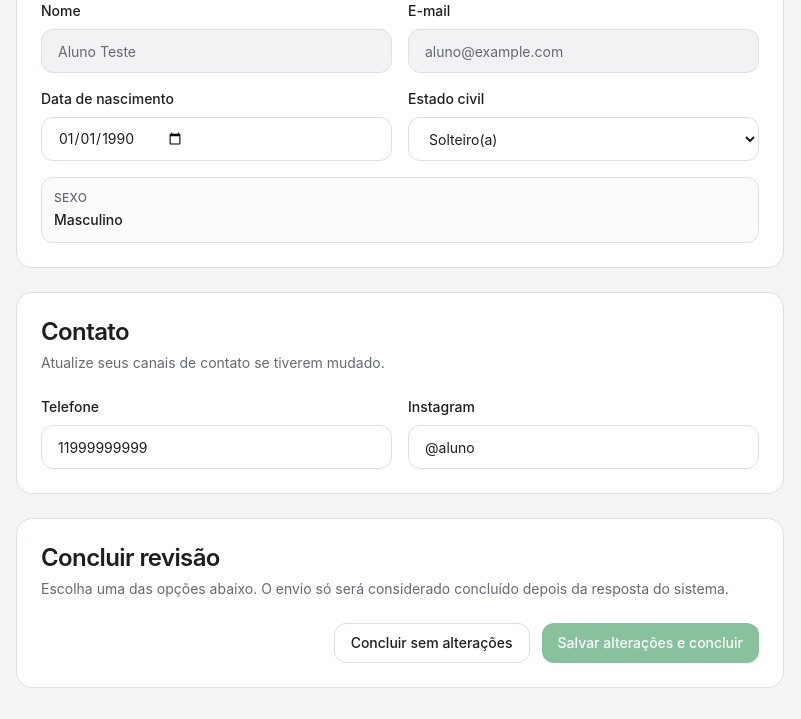
StudentProfileReview › trata reenvio concorrente como revisão não mais disponível sem presumir sucesso
(page scrolled)
Click the button "Concluir sem alterações". click: click(432, 643)
box: [334,623,530,663]
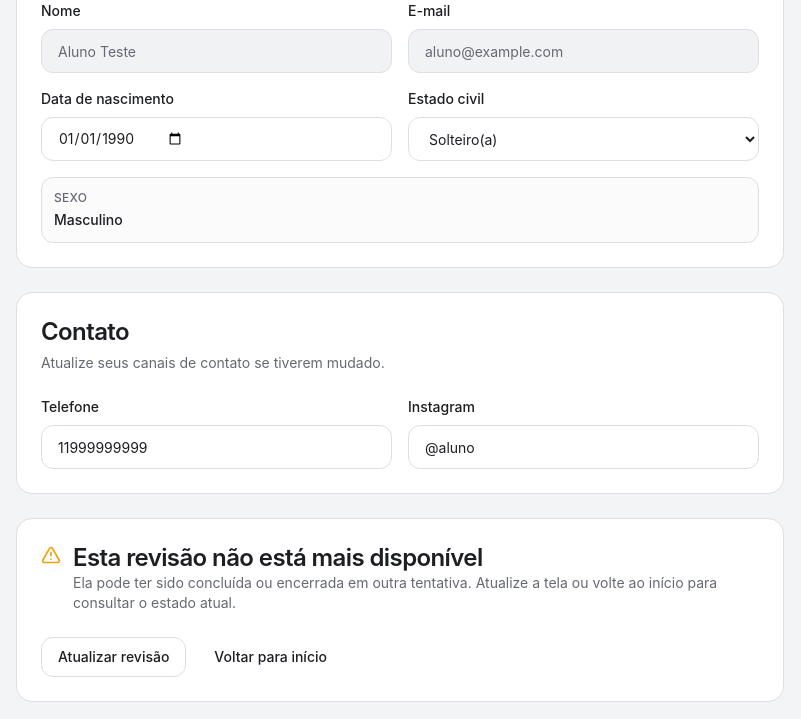
Now the heading "Esta revisão não está mais disponível" is shown, box [73,543,483,572]
